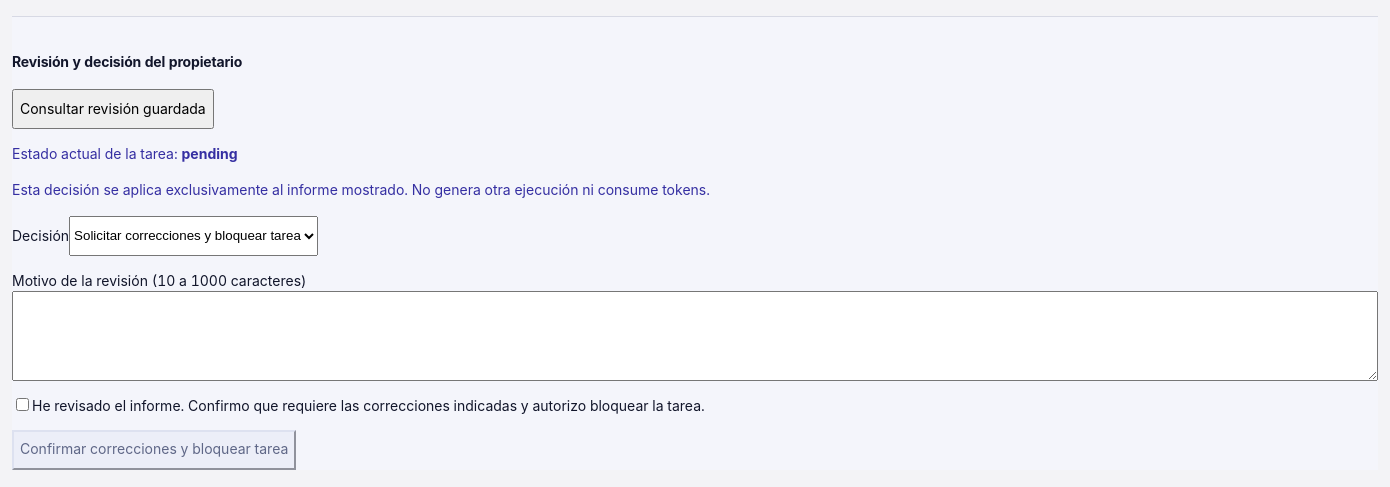
Test: document work review › records an explicit decision and blocks double clicks (accept=true)
This screenshot has width=1390, height=487.
Step 1. Select "Aceptar informe y completar tarea" in the dropdown labelled "Decisión" → (194, 236), box 69,216 -> 318,256
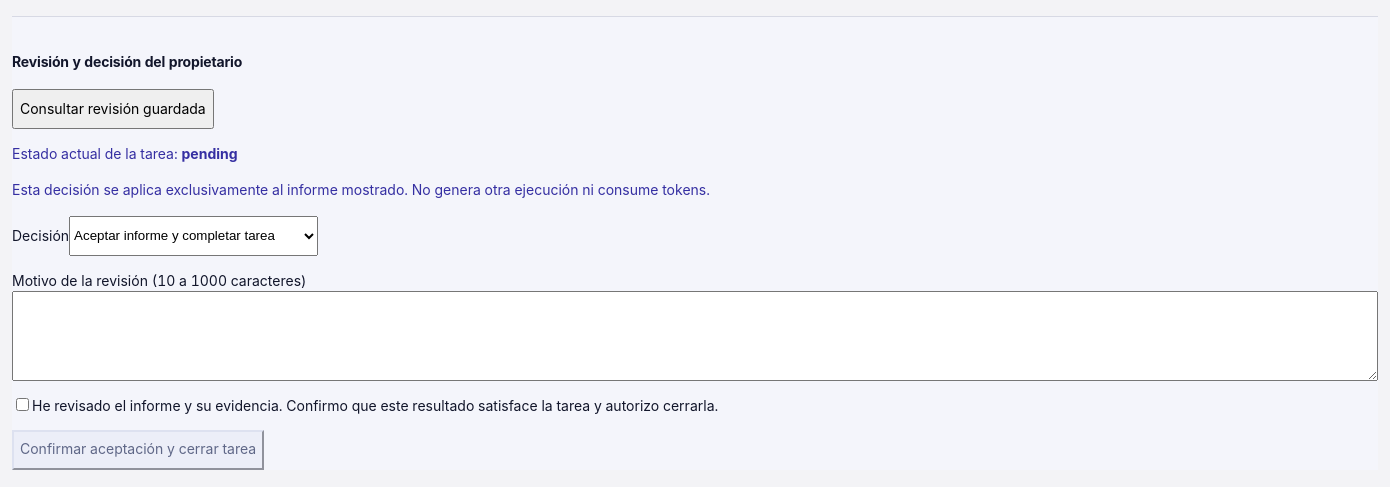
Step 2. Type "Revisado el alcance y las conclusiones del informe" into the text box → (695, 336), box 12,291 -> 1378,381
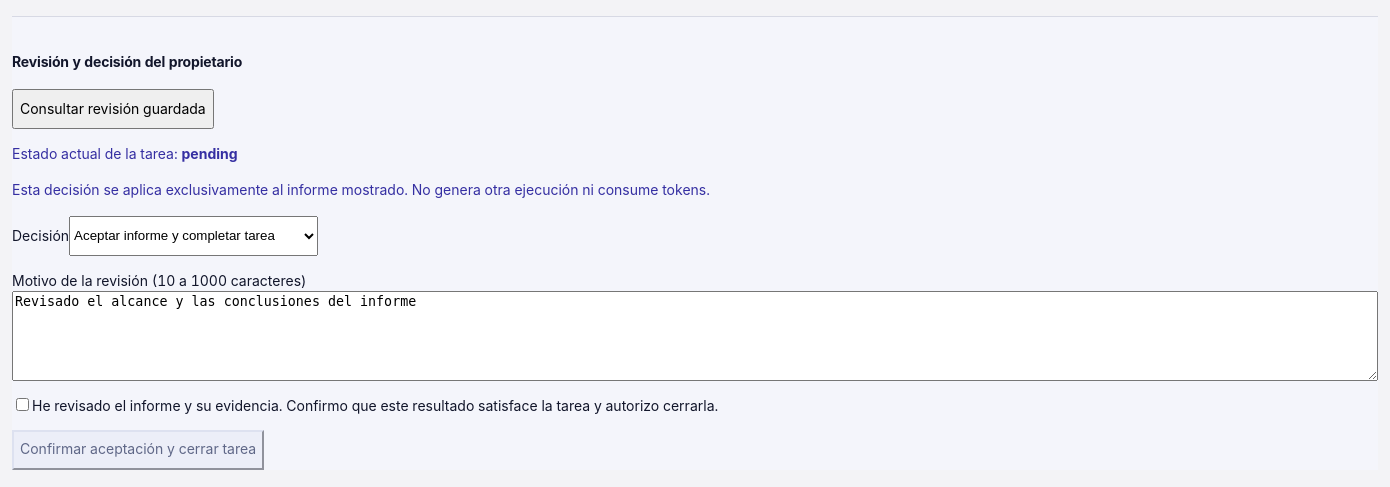
Step 3. Click the checkbox → (22, 404), box 16,398 -> 29,411
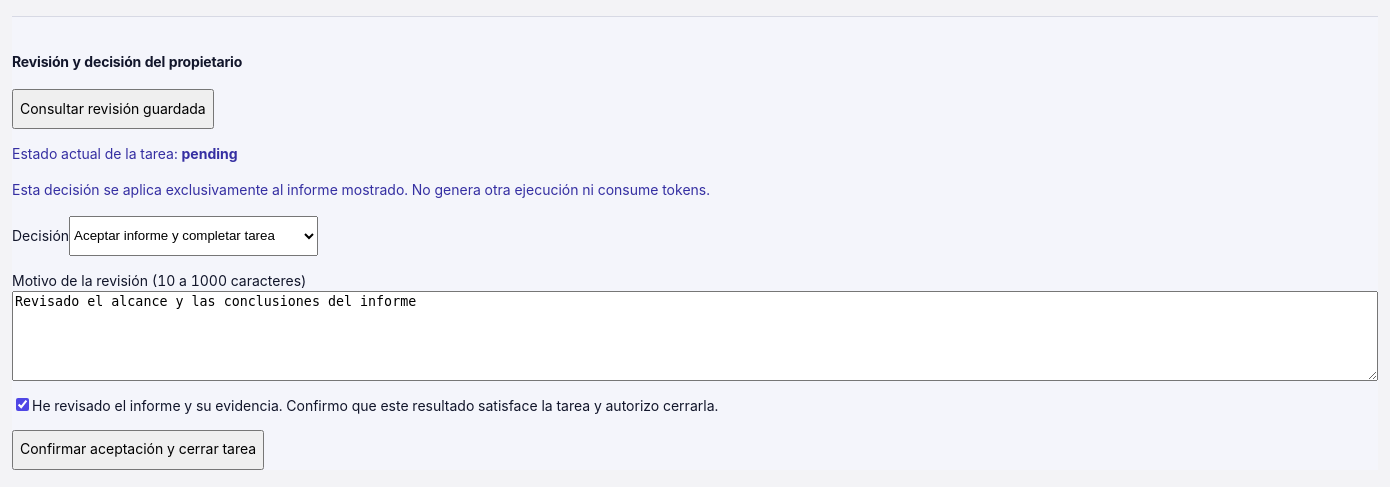
Step 4. Click the button "Confirmar aceptación y cerrar tarea" → (138, 450), box 12,430 -> 264,470
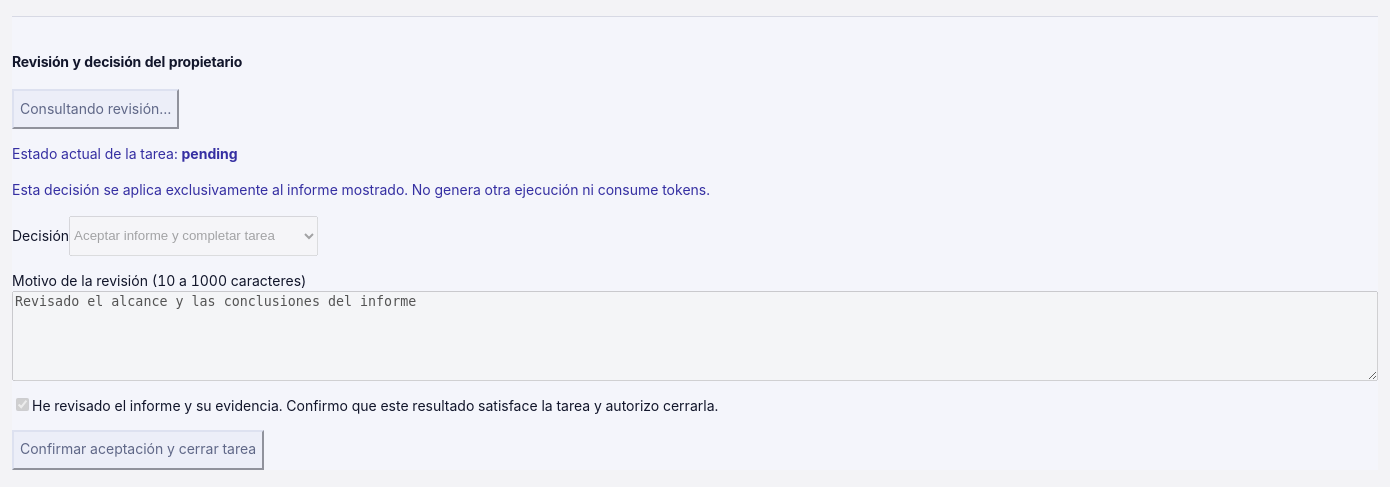
Step 5. Click the button "Confirmar aceptación y cerrar tarea" → (138, 450), box 12,430 -> 264,470
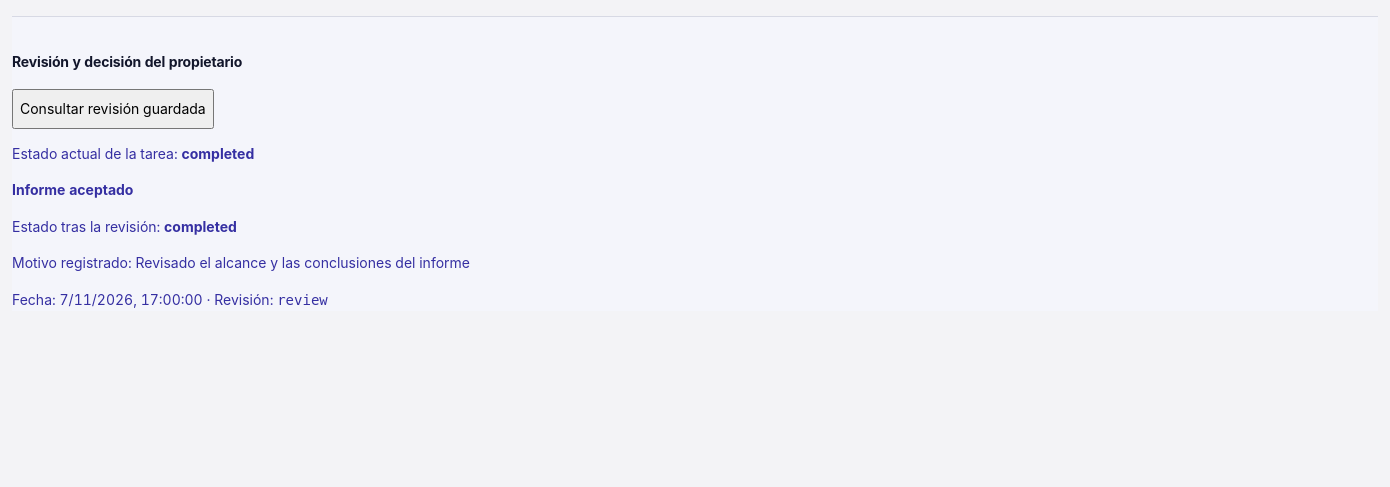
Expected: the text "Informe aceptado" is shown, 12,181 -> 134,198
